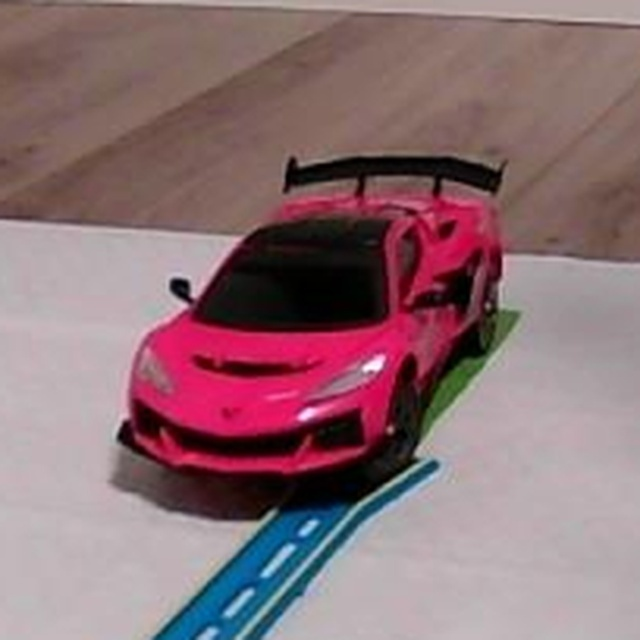tire_rear_driver: (470, 255, 505, 340)
